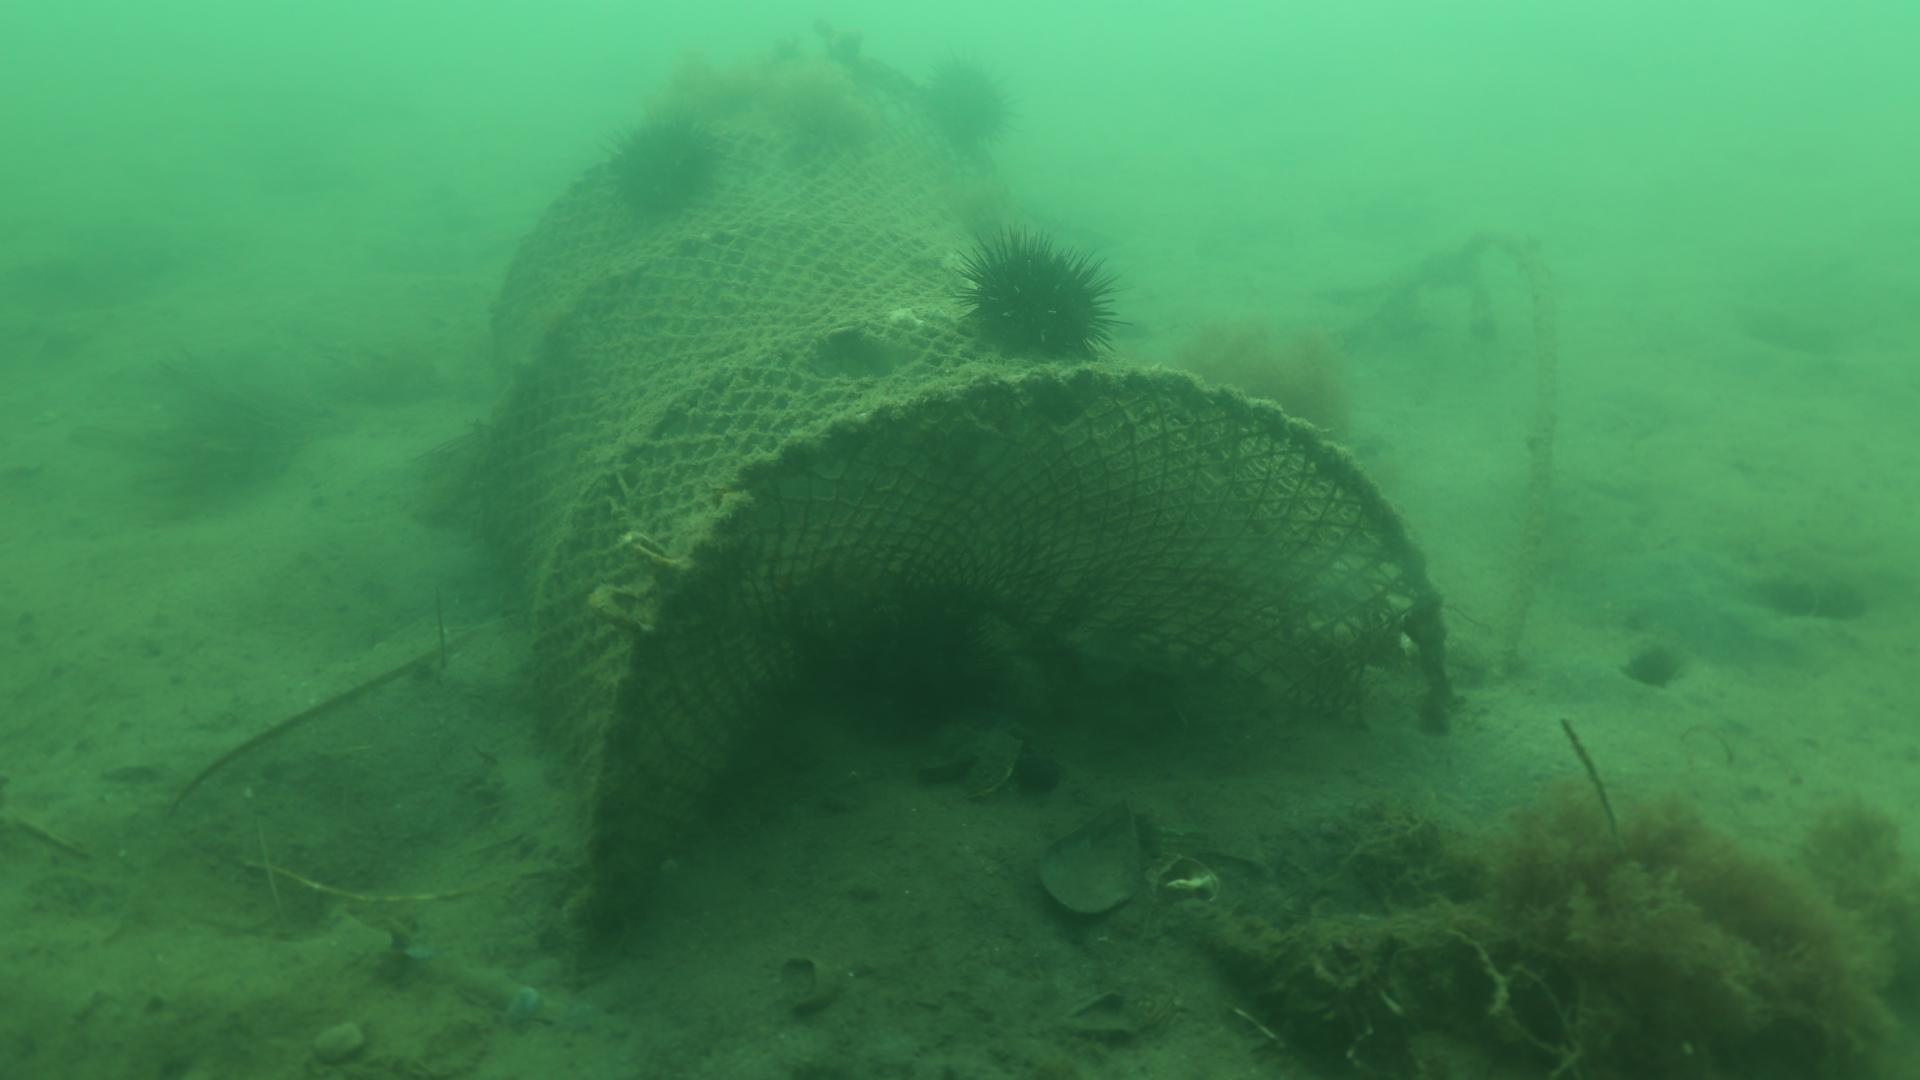spring fish trap: (465, 54, 1447, 947)
